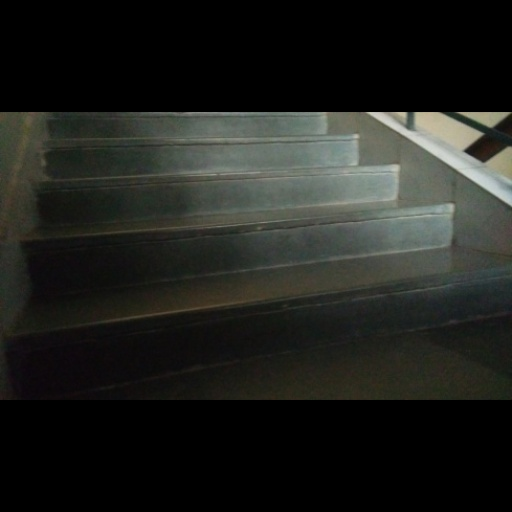Stairs: (25, 113, 452, 293)
